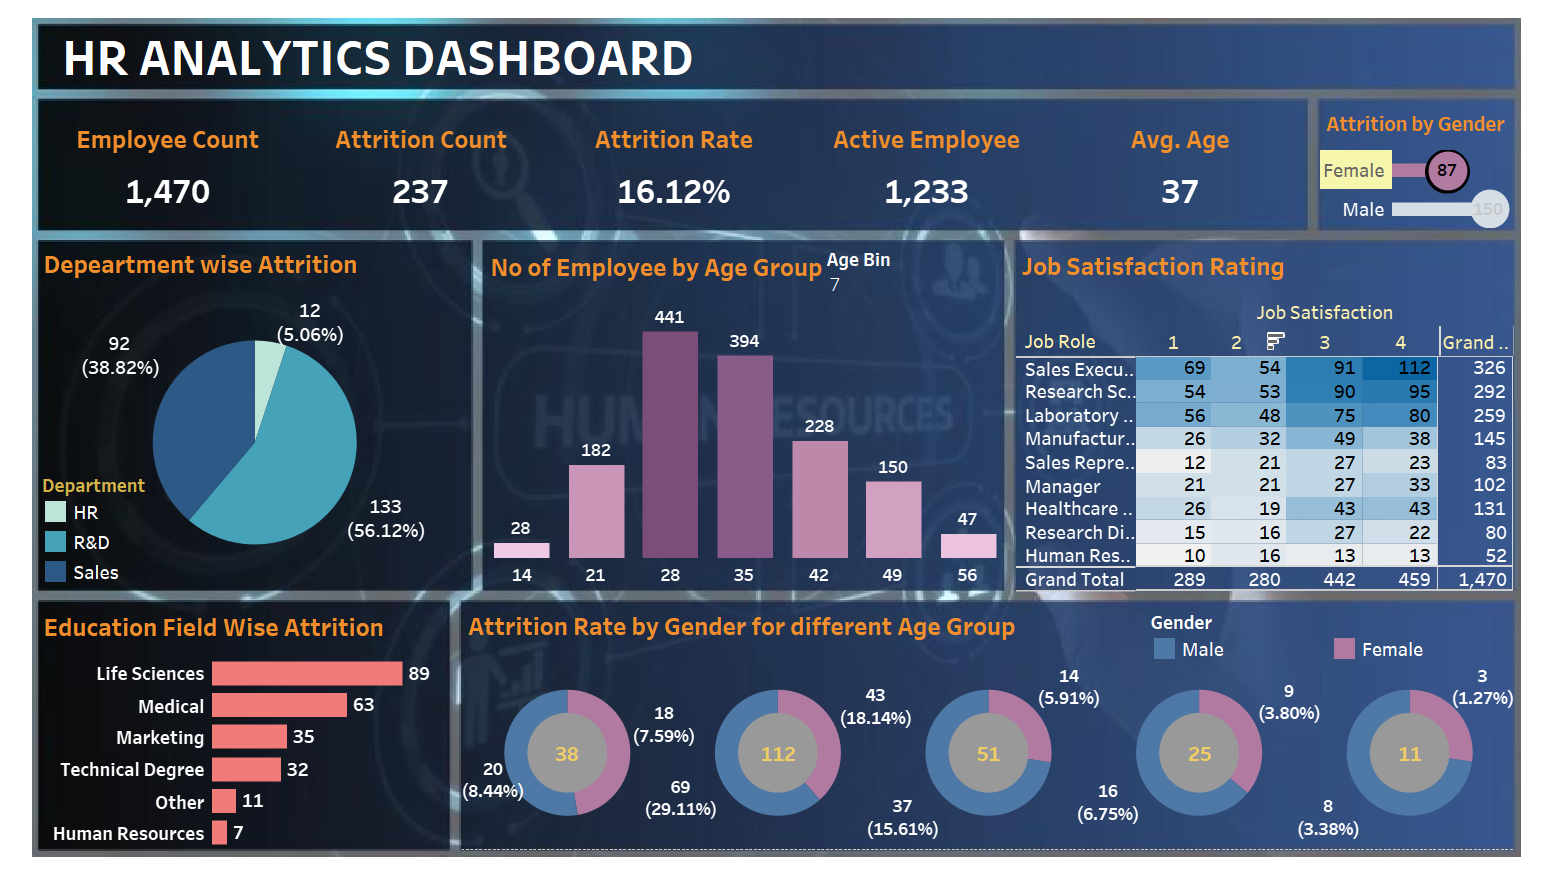

This screenshot's page, from the dashboard's own definition file:
{"tool":"tableau","page":{"name":"HR Dashboard","canvas":[1036,583],"ordinal":0},"visuals":[{"type":"image","param":"C:/Users/Y Nguyen/Desktop/folder/DA/DA_Github/HR_Analytics/Background.jpg","box":[8,8,1020,567]},{"type":"text","box":[26,16,452,42]},{"type":"worksheet","title":"Employee","mark":"Automatic","box":[27,66,844,86]},{"type":"worksheet","title":"Gender of Employees","mark":"Automatic","rows":["Gender"],"cols":["Calculation_1415537680351703040","Calculation_1415537680351703040"],"box":[880,67,129,85]},{"type":"worksheet","title":"Department wise Attrition","mark":"Pie","box":[25,159,289,235]},{"type":"worksheet","title":"Job Satisfaction Rating","mark":"Square","rows":["Job Role"],"cols":["Job Satisfaction"],"box":[677,160,333,234]},{"type":"worksheet","title":"No of Employee by Age Group","mark":"Automatic","rows":["Employee Count"],"cols":["Age (bin)"],"box":[323,161,347,231]},{"type":"parameter","param":"[Parameters].[Parameter 1]","box":[551,163,115,48]},{"type":"legend","title":"Department wise Attrition","param":"[federated.1iawjko03m7sn213bypk60r6w93a].[none:Department:nk]","box":[27,313,140,78]},{"type":"worksheet","title":"Attrition Rate by Gender for different Age Group","mark":"Pie","rows":["Calculation_631911348341780485","Calculation_631911348341780485"],"cols":["CF_age band"],"box":[308,400,702,166]},{"type":"worksheet","title":"Education Field Wise Attrition","mark":"Automatic","rows":["Education Field"],"cols":["Calculation_1415537680351703040"],"box":[25,401,273,165]},{"type":"legend","title":"Attrition Rate by Gender for different Age Group","param":"[federated.1iawjko03m7sn213bypk60r6w93a].[none:Gender:nk]","box":[766,404,245,52]}]}

Visuals, with their boxes in screenshot pixels (x1, y1, x2, y2), scaled from the page's 1036x583 canvas onto the 1554x875 screenshot:
image: 12 12 1542 863
text: 39 24 717 87
"Employee" worksheet: 40 99 1306 228
"Gender of Employees" worksheet: 1320 101 1514 228
"Department wise Attrition" worksheet (Pie marks): 38 239 471 591
"Job Satisfaction Rating" worksheet (Square marks): 1016 240 1515 591
"No of Employee by Age Group" worksheet: 484 242 1005 588
parameter: 826 245 999 317
"Department wise Attrition" legend: 40 470 250 587
"Attrition Rate by Gender for different Age Group" worksheet (Pie marks): 462 600 1515 849
"Education Field Wise Attrition" worksheet: 38 602 447 849
"Attrition Rate by Gender for different Age Group" legend: 1149 606 1516 684
